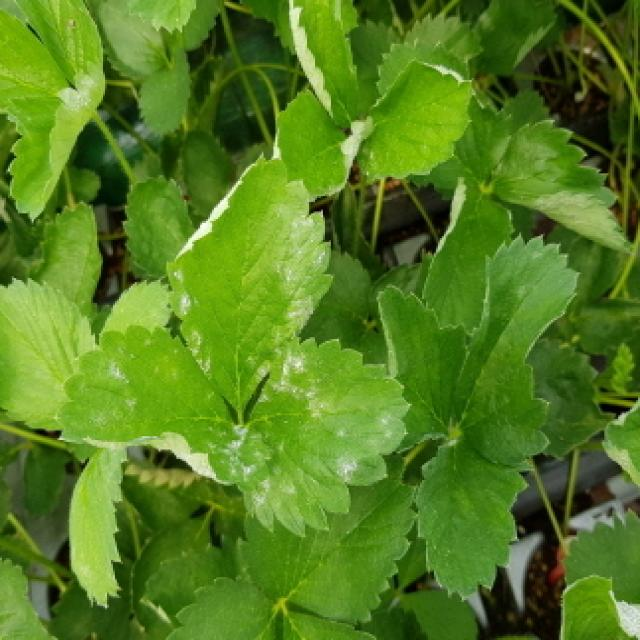Powdery Mildew Leaf: (163, 150, 334, 414), (236, 336, 412, 540), (55, 323, 246, 488), (4, 63, 107, 223), (353, 54, 474, 187), (271, 86, 371, 199), (285, 0, 366, 129), (559, 574, 640, 640), (600, 392, 640, 491)
